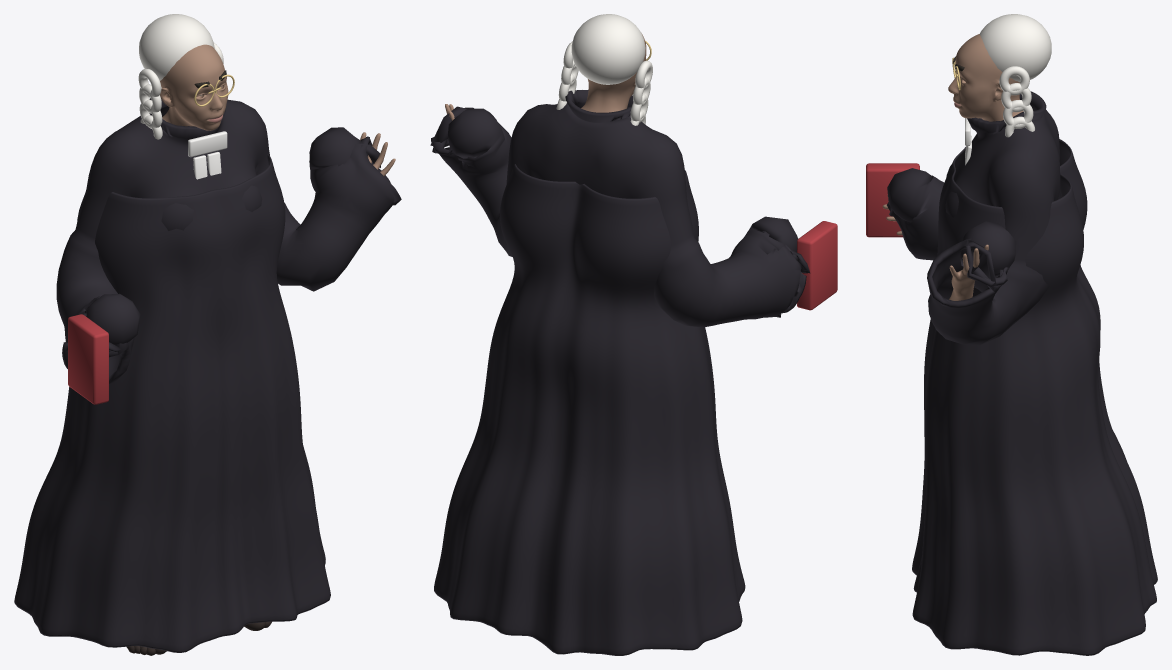
The model's file is juror_expert.glb.
3 views of the same model, side by side, from view 1: azimuth 30°, elevation 25°; view 2: azimuth 150°, elevation 25°; view 3: azimuth 270°, elevation 25° (orthographic). The views are drawn at different scales.
Parts seen in each view (by area): view 1: RobeLower, RobeUpper, Body.001, Book.001, WigCap.001, Bands; view 2: RobeLower, RobeUpper, WigCap.001, Book.001, Body.001; view 3: RobeLower, RobeUpper, Body.001, WigCap.001, Book.001, Curl.012, Curl.014, Curl.013.
Part boxes in pixels (bbox=[...]): RobeLower: bbox=[14, 154, 330, 652]; RobeUpper: bbox=[56, 98, 401, 383]; Body.001: bbox=[160, 44, 395, 175]; Book.001: bbox=[68, 314, 108, 404]; WigCap.001: bbox=[139, 14, 214, 80]; Bands: bbox=[188, 131, 227, 157]; RobeLower: bbox=[434, 164, 745, 655]; RobeUpper: bbox=[430, 89, 810, 327]; WigCap.001: bbox=[571, 14, 645, 84]; Book.001: bbox=[797, 221, 837, 310]; Body.001: bbox=[445, 33, 646, 120]; RobeLower: bbox=[912, 139, 1157, 655]; RobeUpper: bbox=[886, 91, 1060, 345]; Body.001: bbox=[882, 34, 1023, 300]; WigCap.001: bbox=[980, 14, 1051, 82]; Book.001: bbox=[866, 163, 919, 237]; Curl.012: bbox=[999, 66, 1029, 95]; Curl.014: bbox=[1003, 100, 1033, 128]; Curl.013: bbox=[1001, 83, 1031, 112].
Size of the model in its own units: 1.11 by 1.84 by 0.8136.
